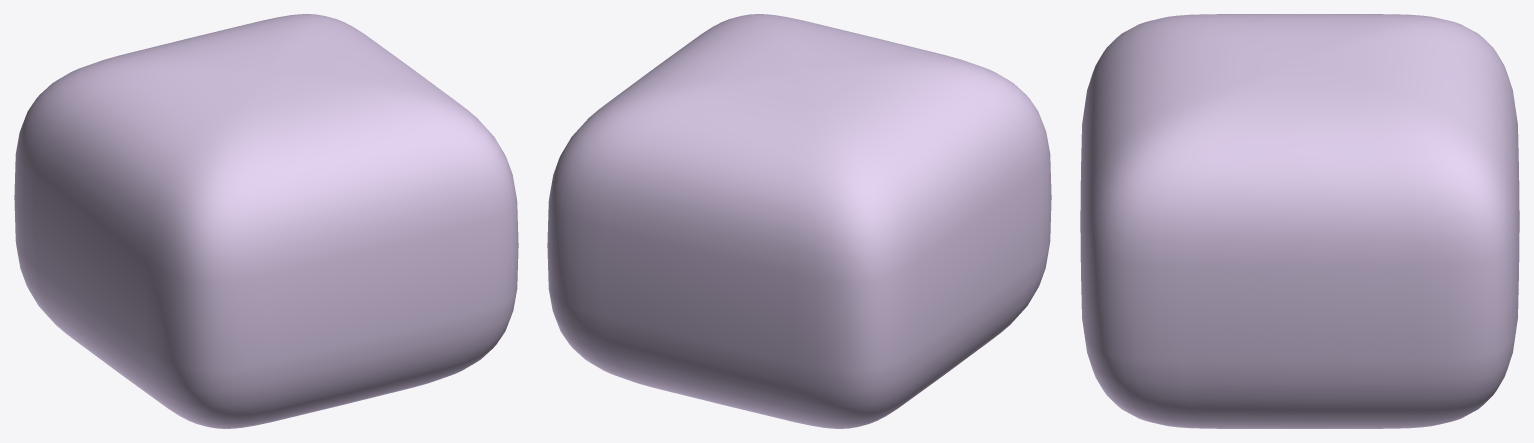
The model's file is example.gltf.
3 views of the same model, side by side, from view 1: azimuth 30°, elevation 25°; view 2: azimuth 150°, elevation 25°; view 3: azimuth 270°, elevation 25° (orthographic). The views are drawn at different scales.
Parts seen in each view (by area): view 1: superellipsoid; view 2: superellipsoid; view 3: superellipsoid.
Boxes of the visible parts, left/top/right/bottom form: superellipsoid: left=14, top=14, right=518, bottom=428; superellipsoid: left=547, top=14, right=1051, bottom=428; superellipsoid: left=1080, top=14, right=1519, bottom=428.
Bounding box in the file's own units: 2 × 1.6 × 2.
